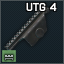M14 UTG 4-Point Locking Deluxe mount: (0, 0, 64, 64)
